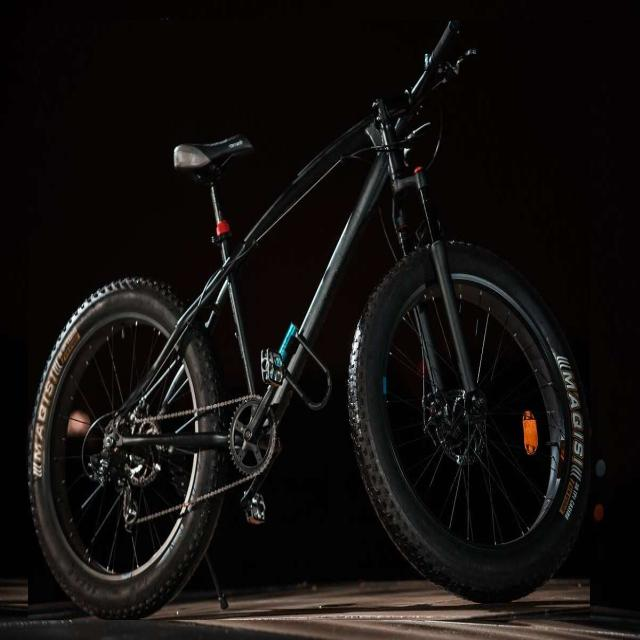bicycle: (28, 20, 590, 620)
